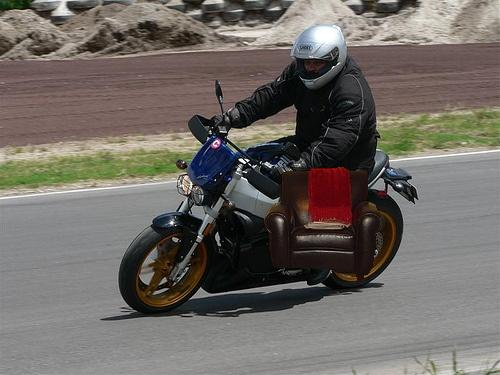tampered: (265, 168, 380, 282)
